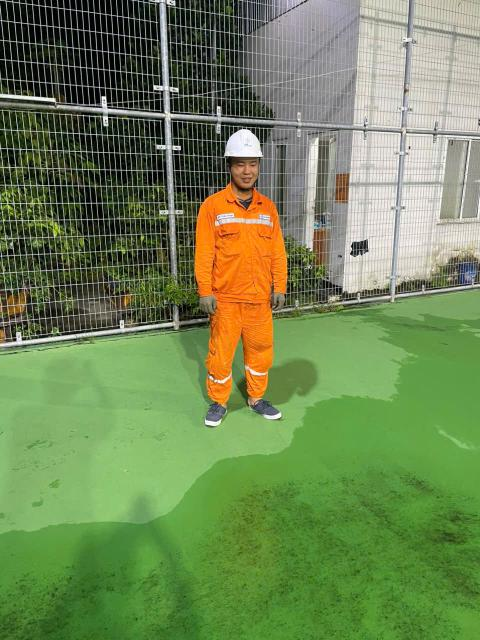gloves: (267, 288, 295, 310), (196, 292, 219, 317)
helmet: (219, 130, 270, 164)
shoes: (247, 395, 288, 428), (199, 393, 233, 431)
